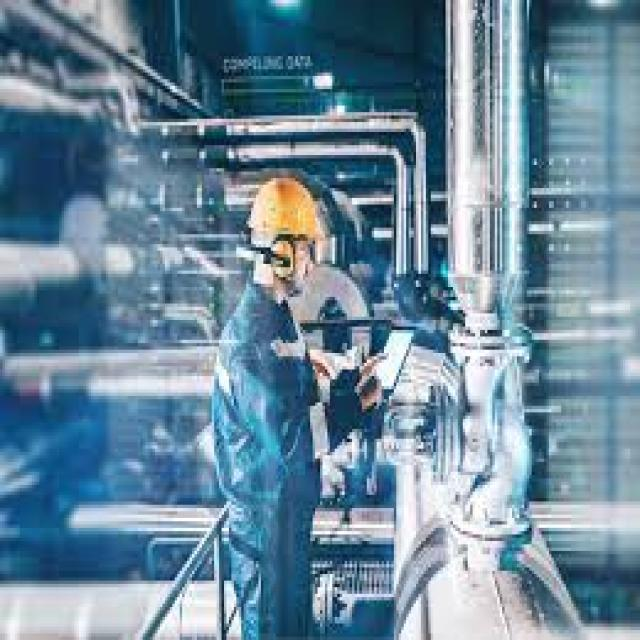Ear-Protection: (266, 231, 293, 277)
Helmet: (244, 168, 327, 238)
